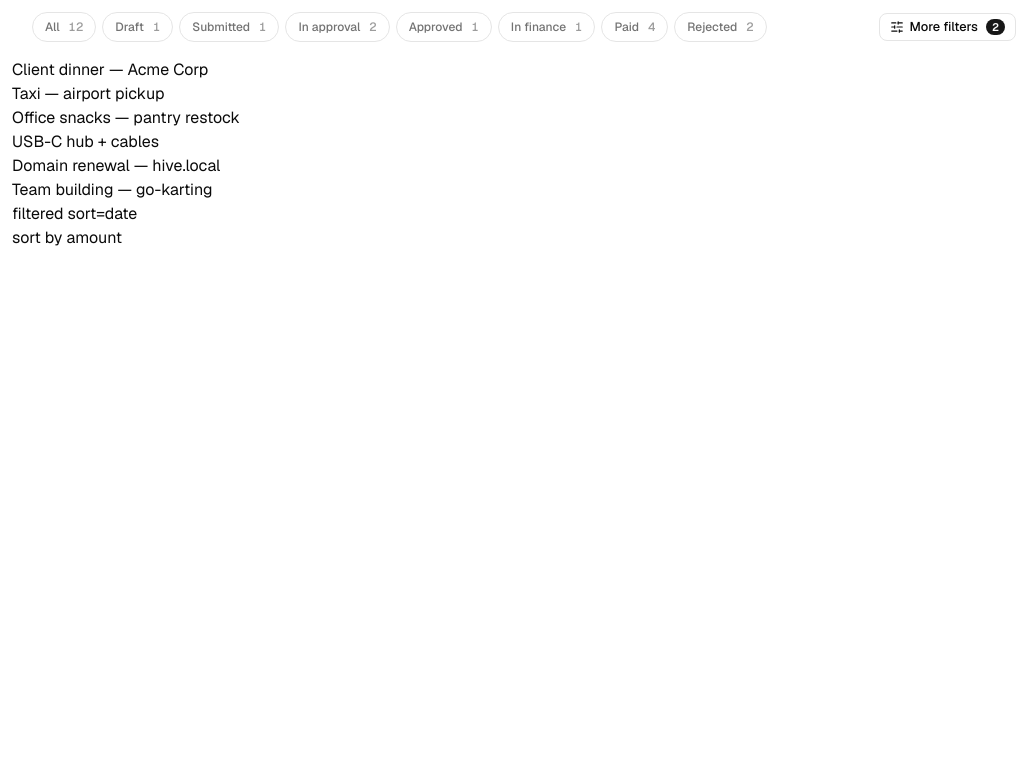
Scenario: ExpenseFilterSection URL sync (ADR-0021) › lets the status multi-select win over the chip on a stale URL
Click the button "More filters 2".
click(947, 27)  # box [879, 13, 1016, 41]
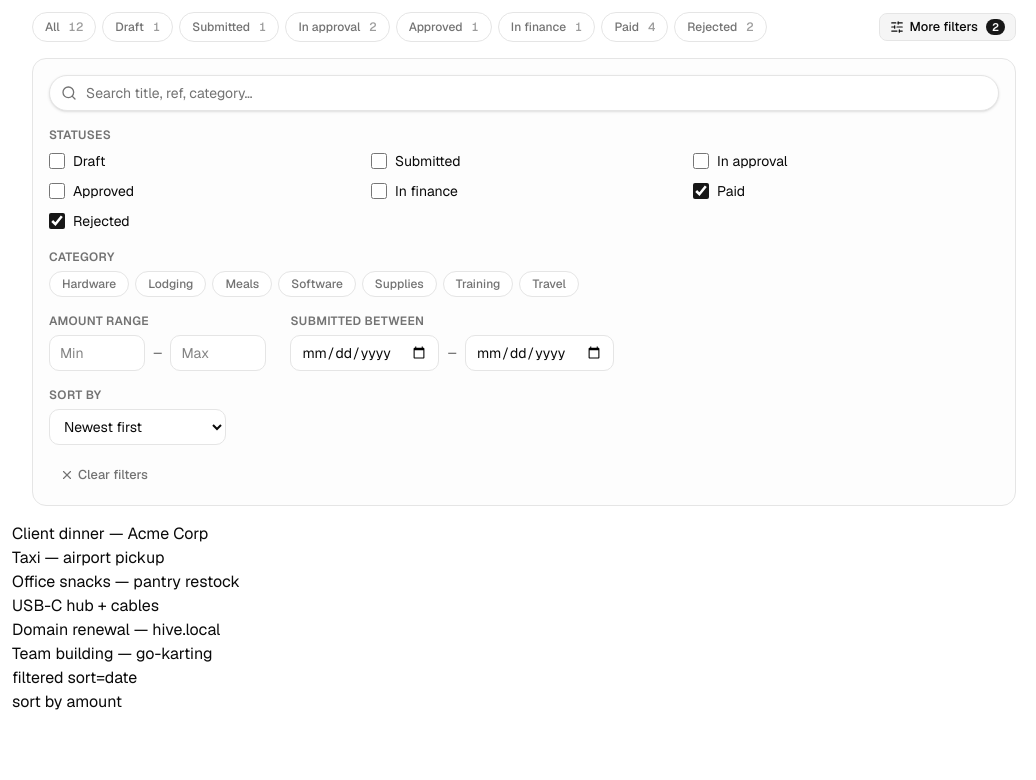
Expected: the number of list items is 6, [12, 523, 208, 544]; [12, 547, 165, 568]; [12, 571, 240, 592]; [12, 595, 159, 616]; [12, 619, 220, 640]; [12, 643, 212, 664]
Result: the checkbox labelled "Paid" is checked at [693, 183, 709, 199]
Result: the checkbox labelled "Rejected" is checked at [49, 213, 65, 229]
